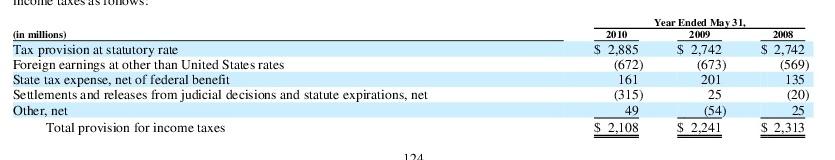table: (0, 0, 835, 160)
